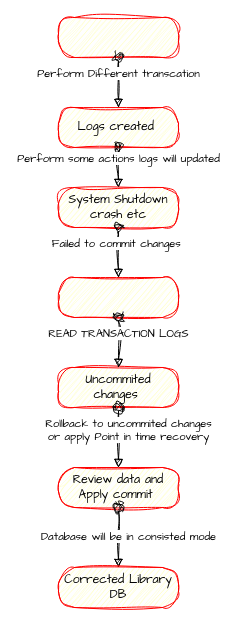
This 237x625 diagram has some shape labels left out. Each missing label, with the centre of its shape:
Library DB: point (118, 37)
Restart: point (118, 297)
